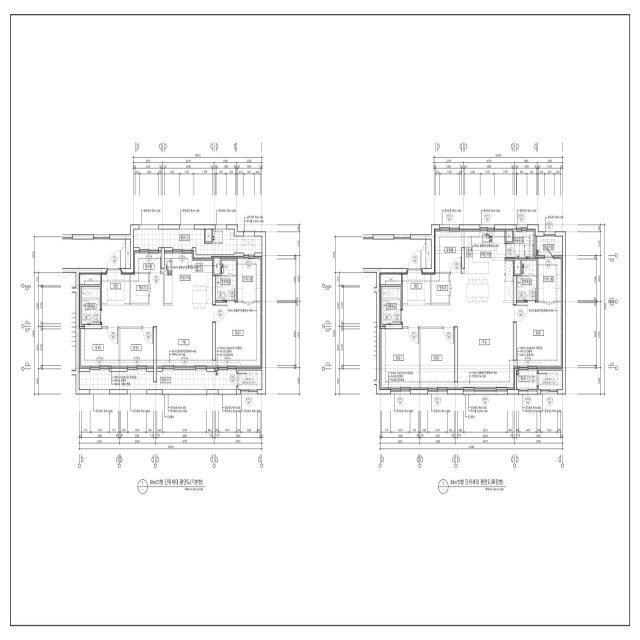space_balconi: (134, 229, 262, 255), (79, 370, 236, 390), (516, 370, 537, 389)
space_bedroom: (216, 302, 262, 368), (516, 302, 562, 368), (380, 329, 419, 390), (421, 329, 454, 390), (79, 329, 118, 368), (120, 329, 154, 368)
space_dressroom: (238, 256, 262, 301), (538, 256, 562, 301)
space_front: (102, 271, 129, 305), (403, 271, 430, 305)
space_kitchen: (450, 229, 513, 305), (164, 251, 213, 306)
space_living_room: (403, 305, 515, 390), (102, 305, 213, 368)
space_multipurpose_space: (506, 229, 535, 258)
space_other: (62, 239, 125, 269), (363, 239, 426, 268), (434, 229, 462, 272), (134, 251, 161, 272), (431, 273, 449, 303), (131, 273, 148, 303), (238, 370, 262, 390), (539, 370, 562, 390), (149, 274, 163, 305), (79, 273, 101, 285), (380, 273, 401, 285), (125, 239, 130, 268), (426, 239, 431, 268), (214, 257, 220, 274), (515, 260, 521, 274), (206, 229, 212, 241), (506, 229, 512, 241)
space_outdoor_room: (537, 236, 562, 257)
space_toilet: (516, 260, 537, 300), (216, 260, 236, 300), (81, 287, 100, 324), (382, 287, 401, 324)
